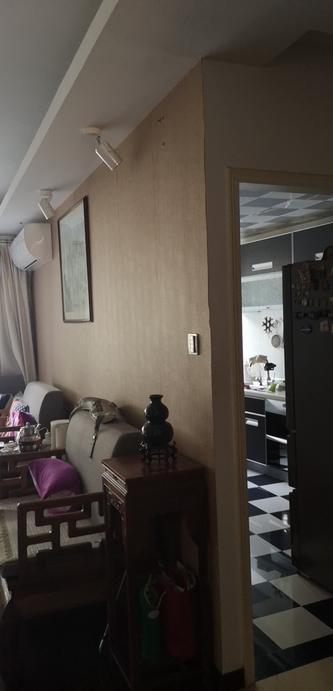switch: (184, 338, 200, 353)
